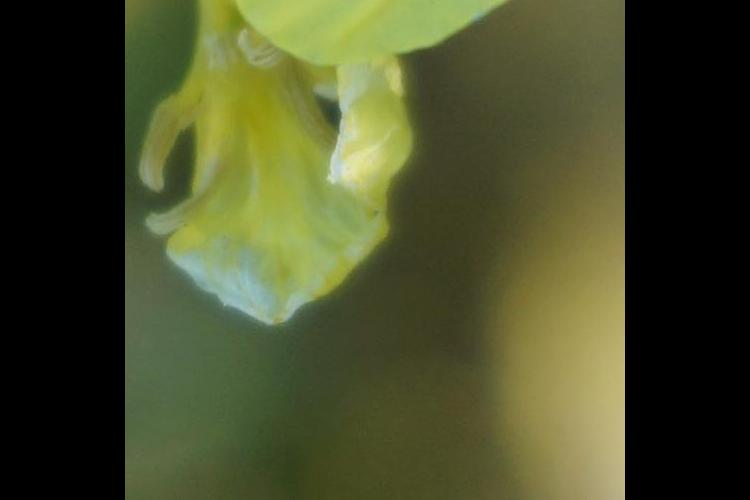yellow: (151, 1, 418, 337)
